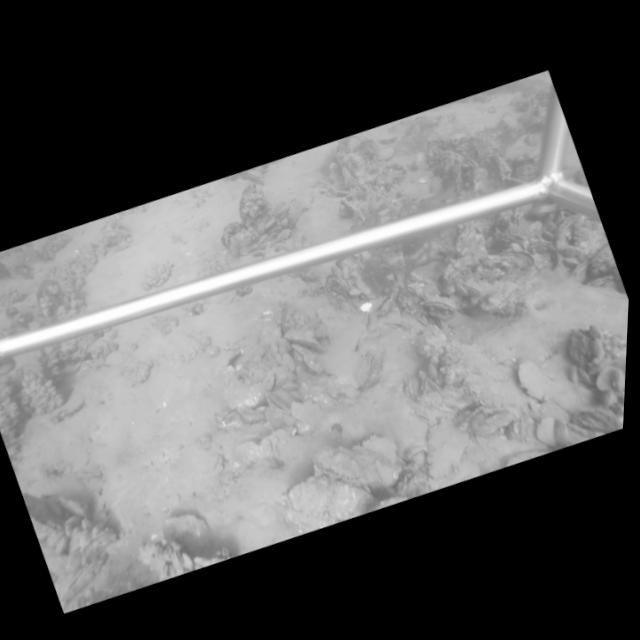Oyster-Closed: (313, 432, 405, 491), (423, 415, 471, 487), (292, 343, 321, 376), (498, 250, 535, 269), (424, 296, 456, 317), (265, 390, 291, 413), (414, 407, 437, 427), (336, 159, 353, 184), (590, 337, 604, 360), (589, 323, 605, 340), (465, 284, 483, 296)
Oyster-Indeterminate: (282, 474, 378, 517), (515, 359, 591, 409), (159, 510, 210, 554)
Oyster-Open: (376, 287, 399, 314)
